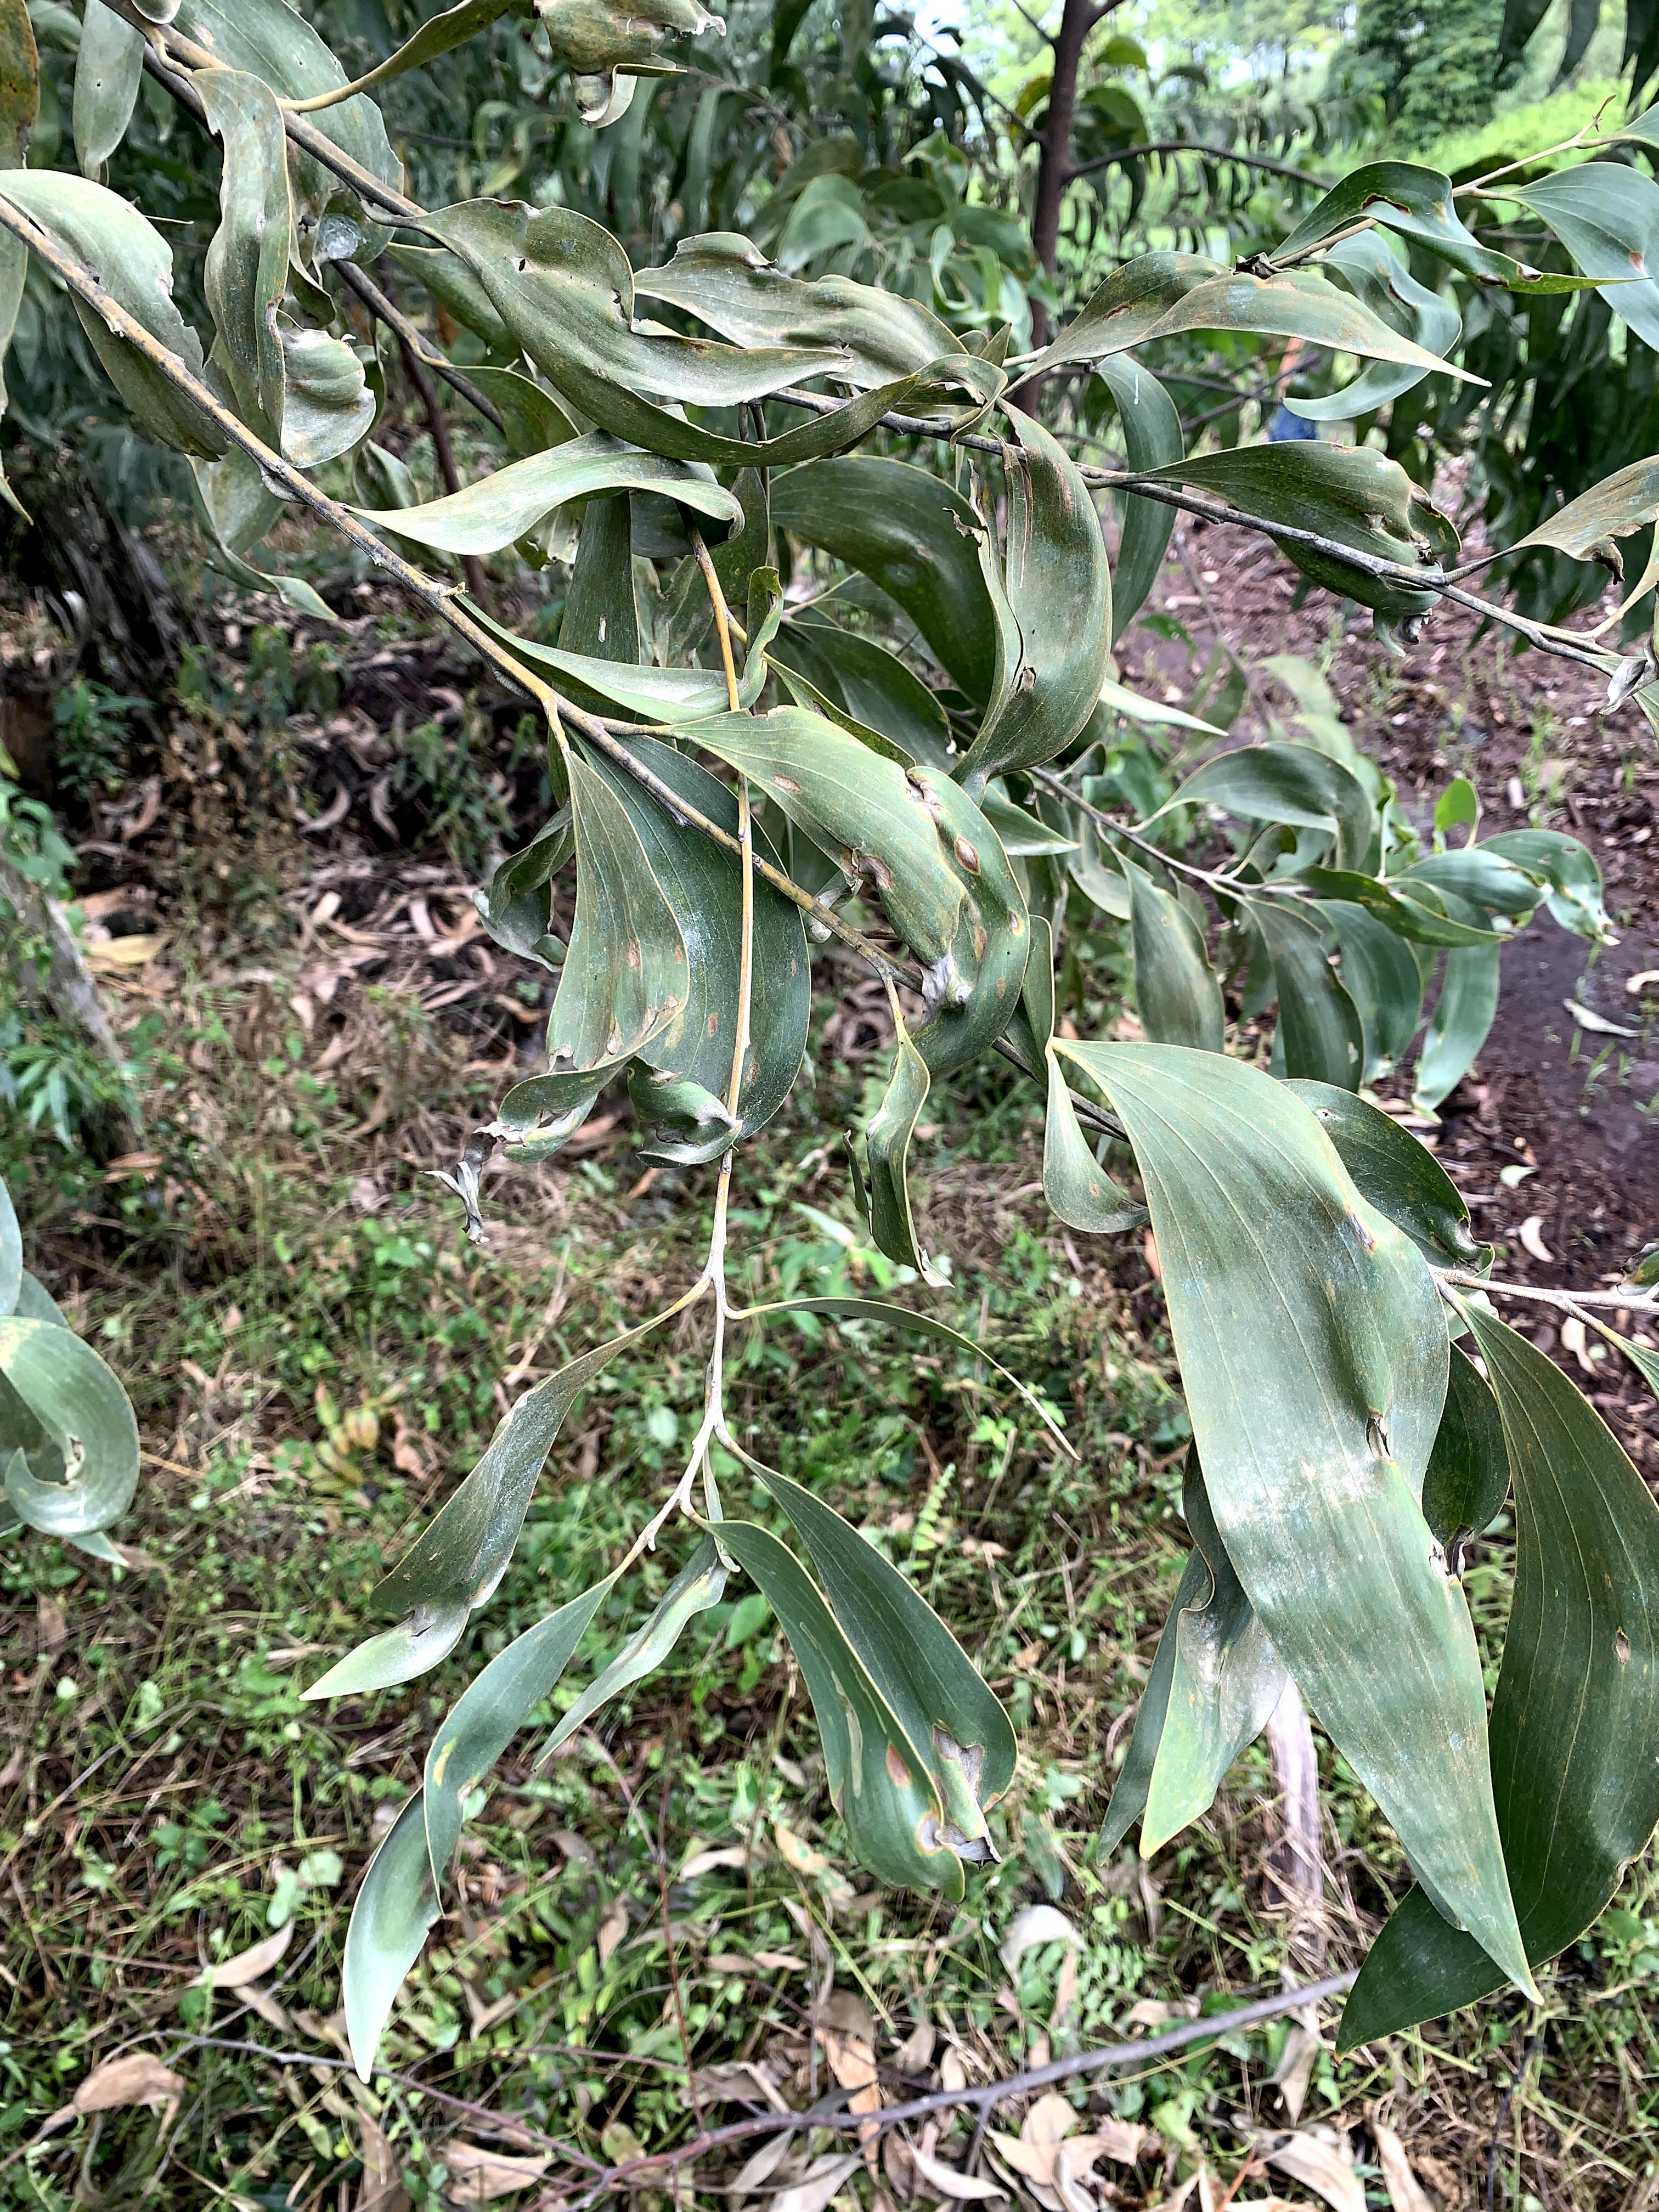Pasalora: (734, 711, 1044, 1050), (429, 197, 833, 421), (181, 64, 340, 484), (958, 399, 1108, 768), (538, 752, 667, 1136), (1061, 247, 1382, 364), (471, 0, 720, 134)
